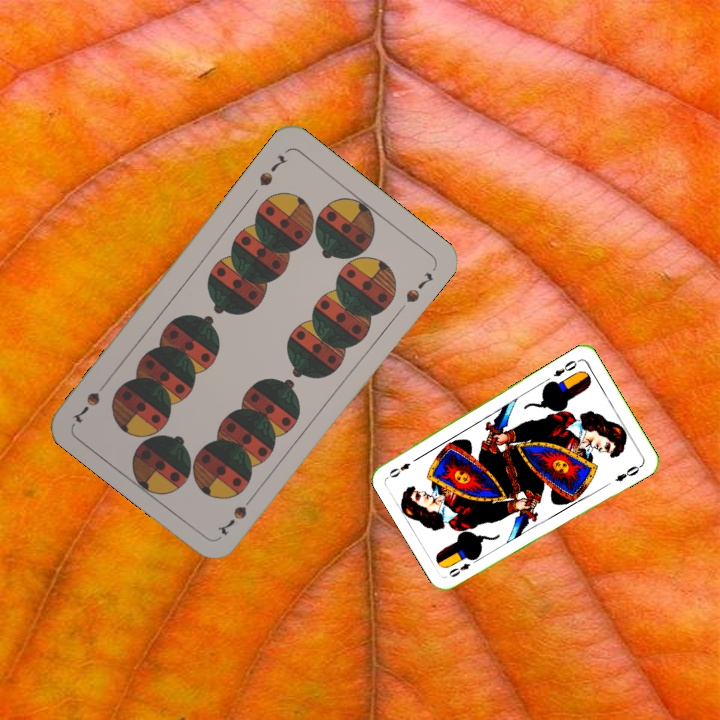EO: (445, 553, 481, 580), (549, 356, 582, 379)
S7: (213, 490, 258, 538), (255, 150, 290, 189)
